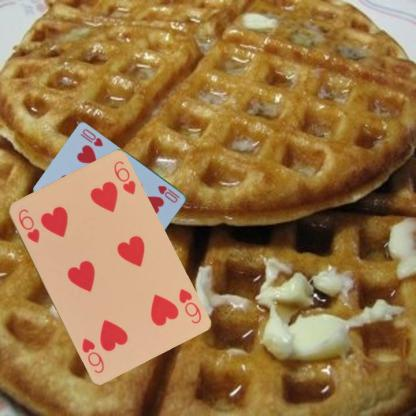10h: (155, 183, 181, 204)
6h: (176, 285, 202, 325), (15, 206, 41, 244)
